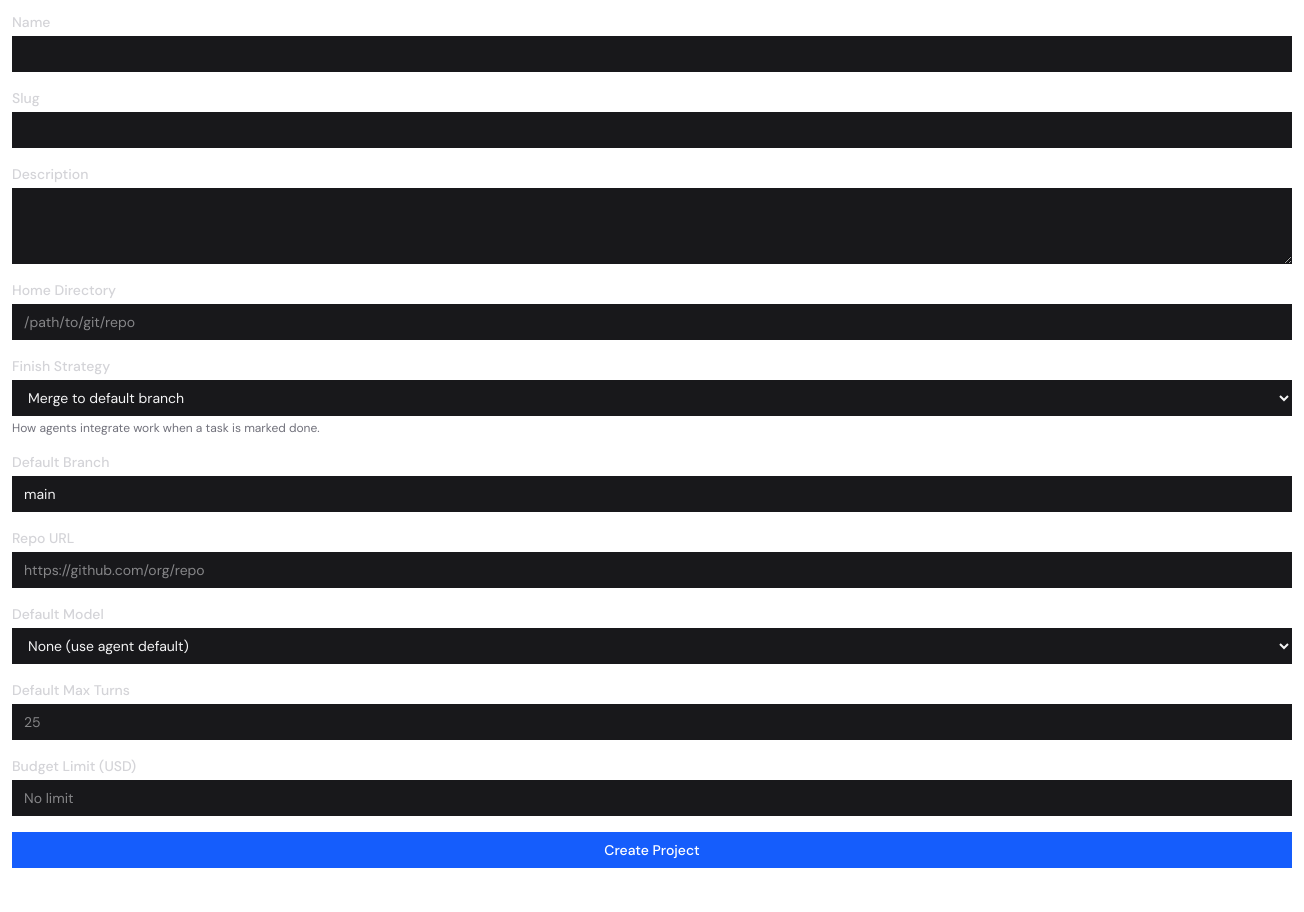
it: ProjectForm › auto-generates slug from name
Type "My Cool Project" into the field labelled "Name" at (652, 54), box [12,36,1292,72]
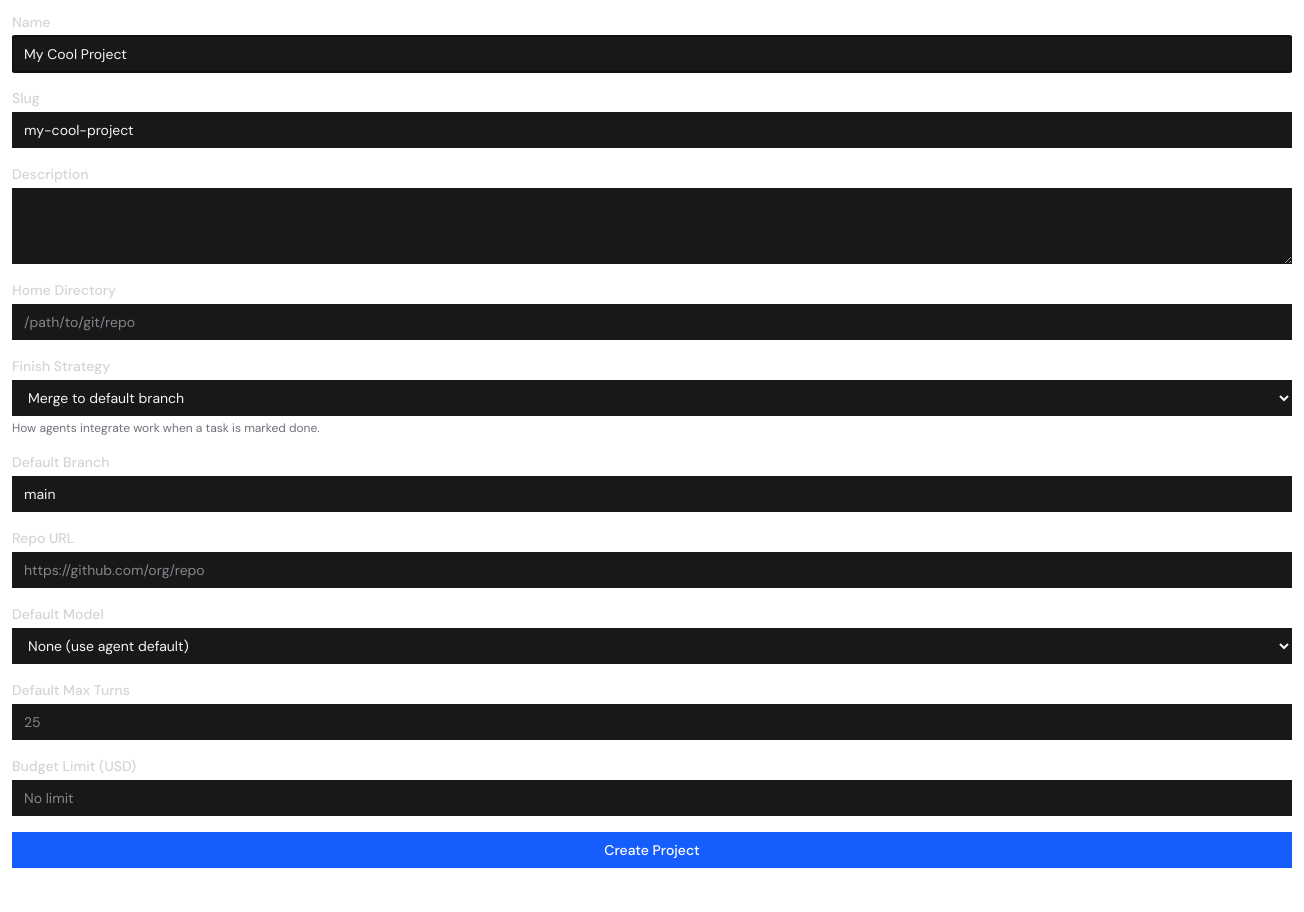
Now the field labelled "Slug" holds "my-cool-project", box [12,112,1292,148]
